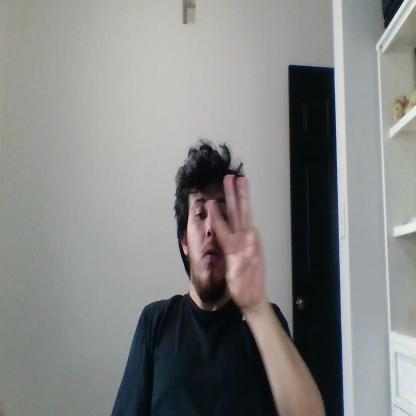W: (206, 172, 265, 306)
